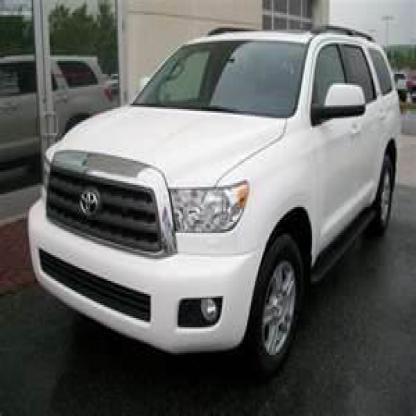Vehicle: (31, 24, 400, 370)
